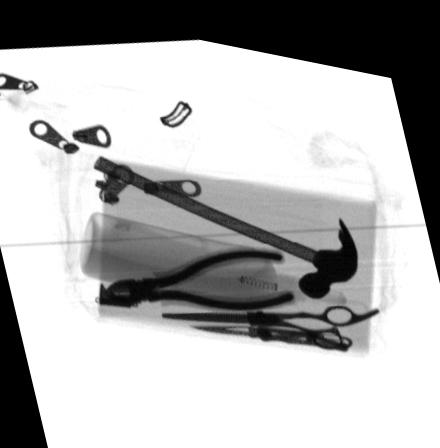Hammer: (91, 150, 356, 285)
Knife: (188, 312, 350, 335)
Pliers: (94, 235, 293, 302)
Scissors: (157, 289, 380, 333)
